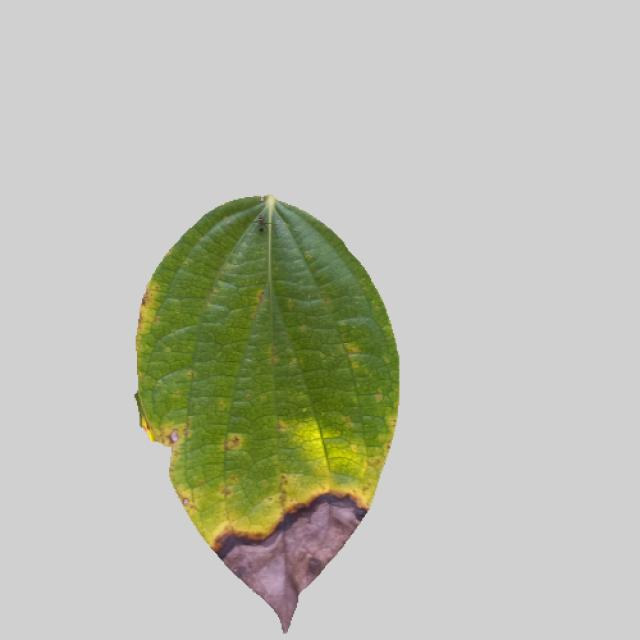leaf-blight: (128, 200, 401, 632)
